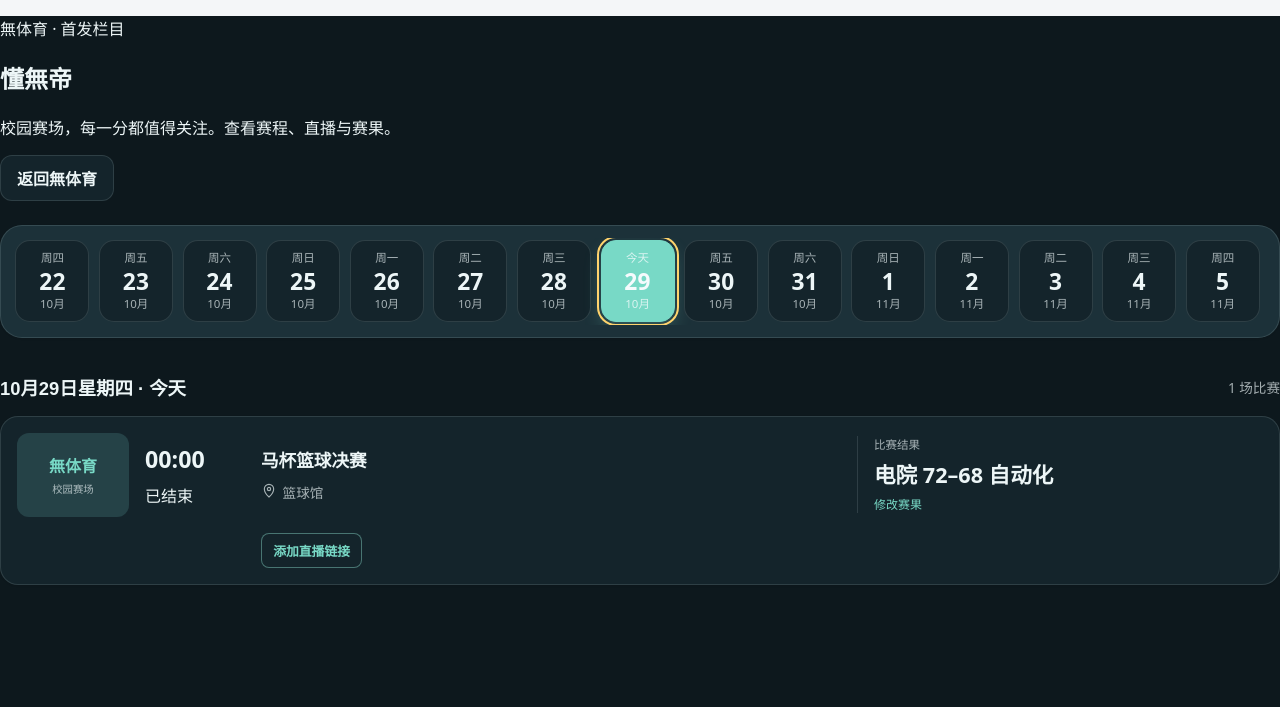
Scenario: SportsMatchesPage › lets the match owner update an ended result
Click the button "修改赛果" at point(898, 504), box [874, 496, 922, 514]
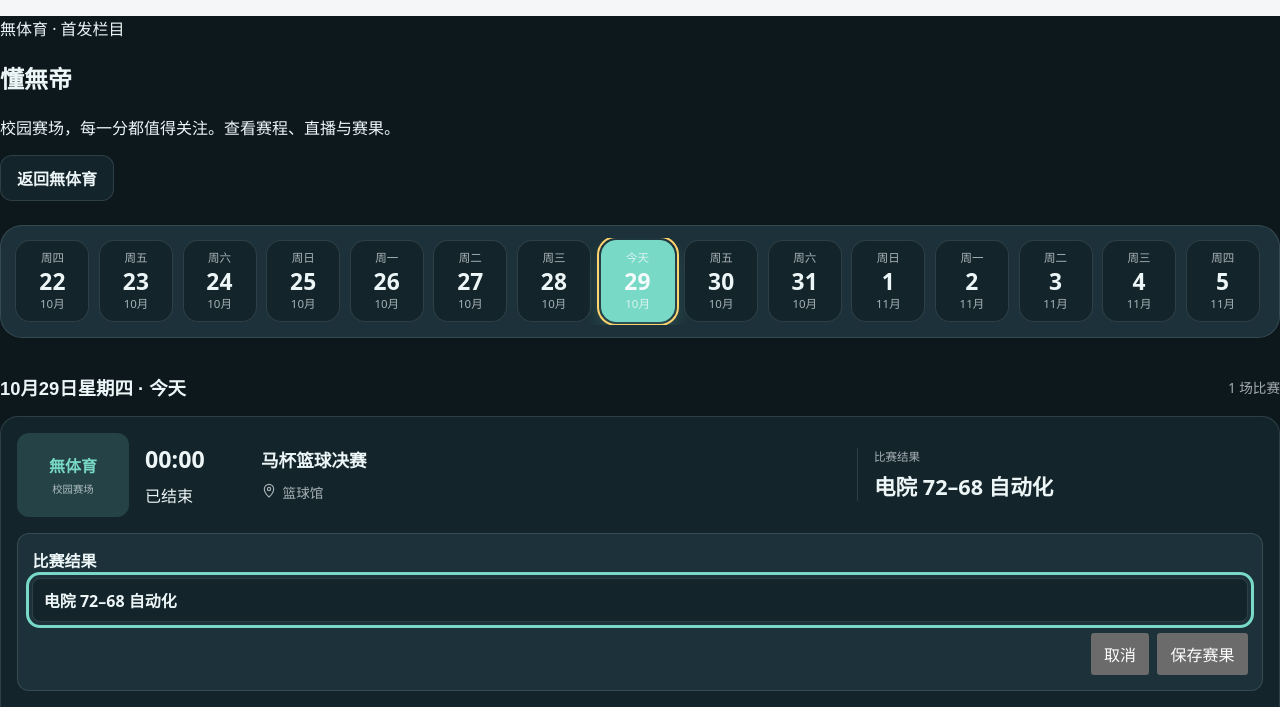
Replace the text in the field named "马杯篮球决赛比赛结果" with "电院 75–70 自动化" at point(640, 600), box [32, 578, 1248, 622]
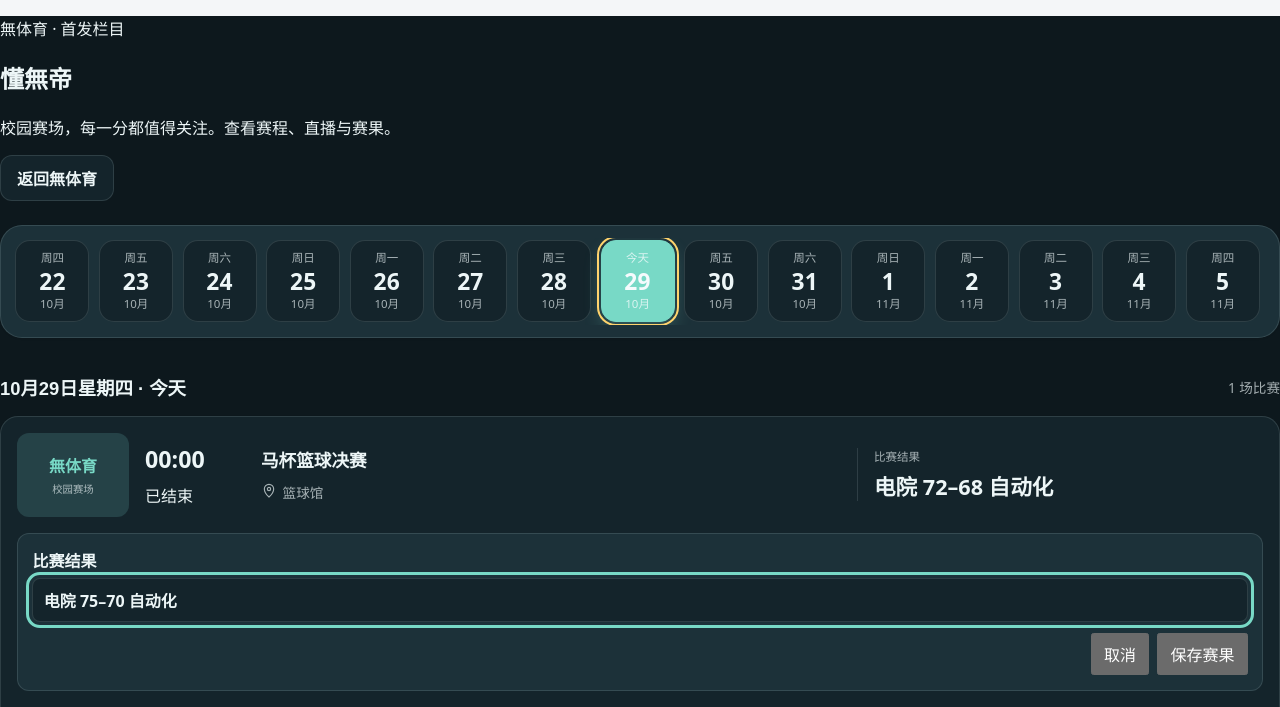
Click the button "保存赛果" at point(1202, 654), box [1157, 633, 1248, 675]
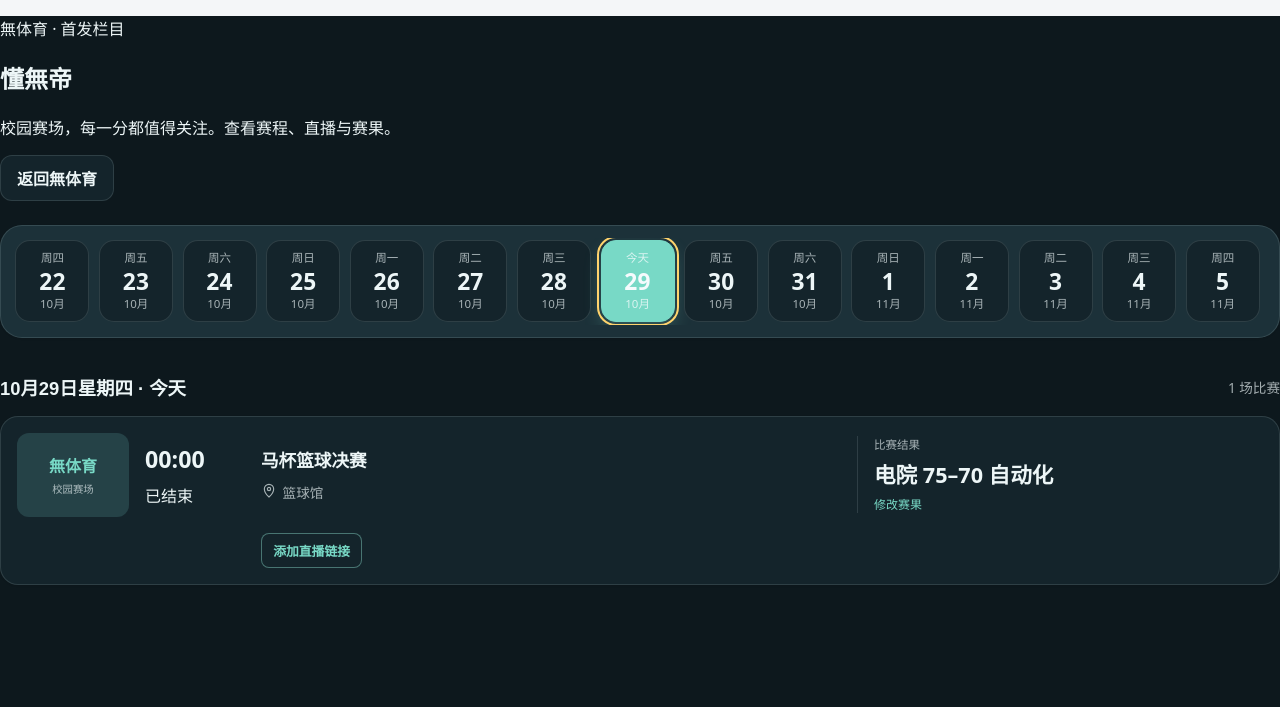
Expected: the text "电院 75–70 自动化" is shown, [874, 458, 1053, 489]
